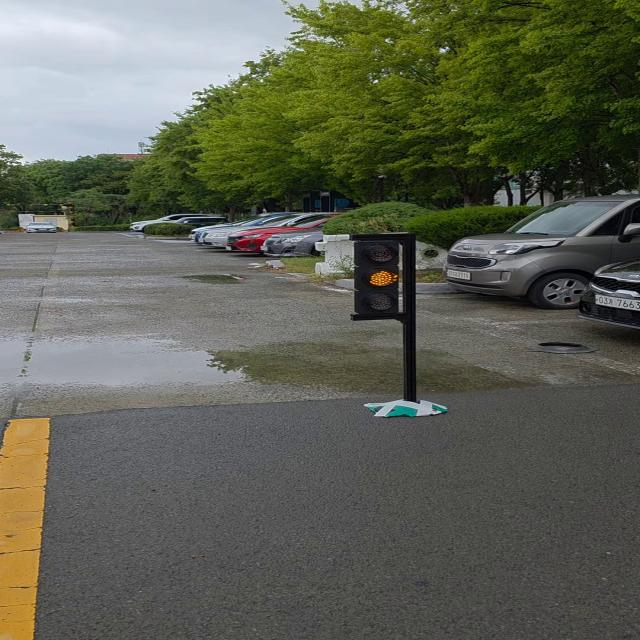yellow: (351, 235, 406, 317)
